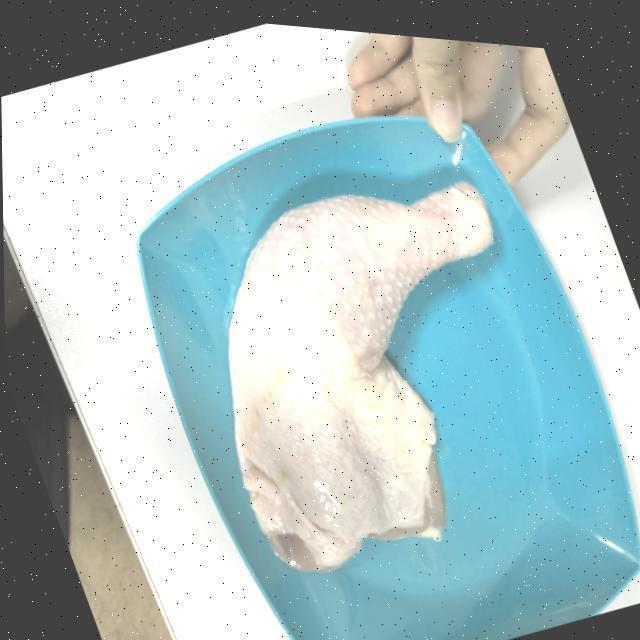quater: (219, 169, 508, 577)
